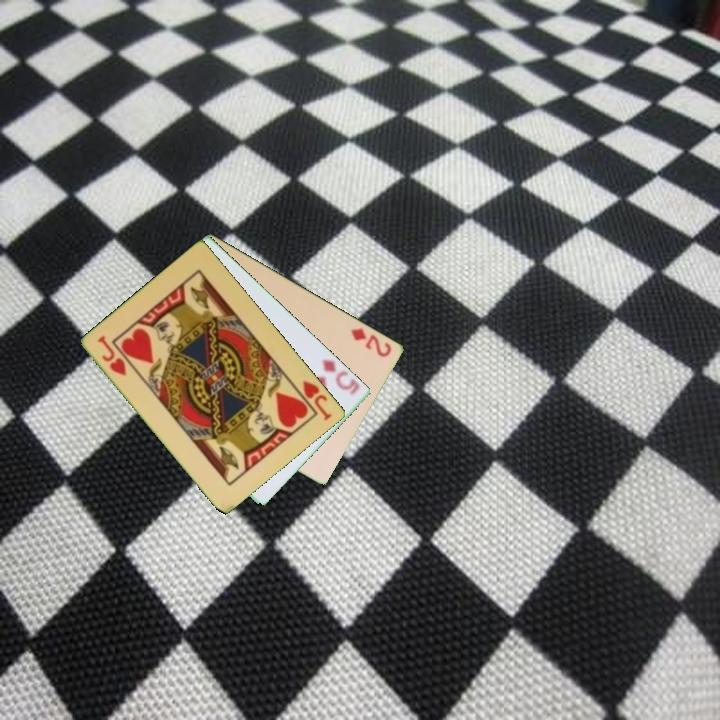2d: (348, 324, 395, 360)
5d: (319, 355, 363, 398)
Jh: (289, 377, 335, 424), (94, 332, 130, 379)
